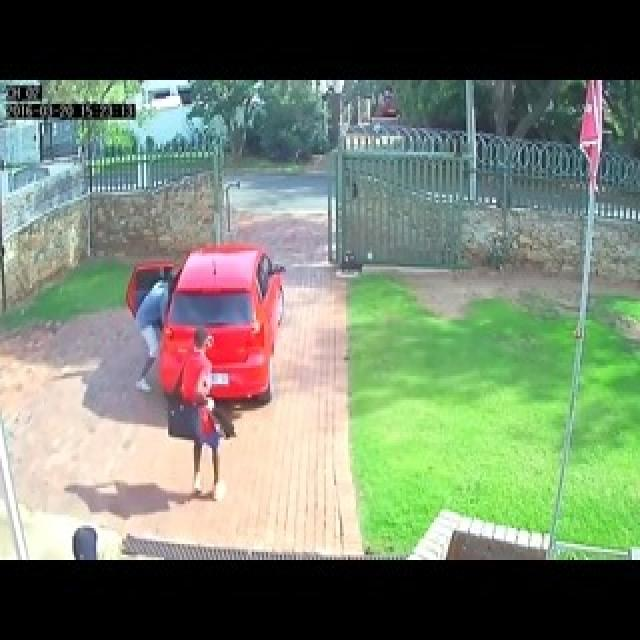thief: (164, 311, 233, 434), (133, 282, 174, 376), (60, 525, 114, 559)
